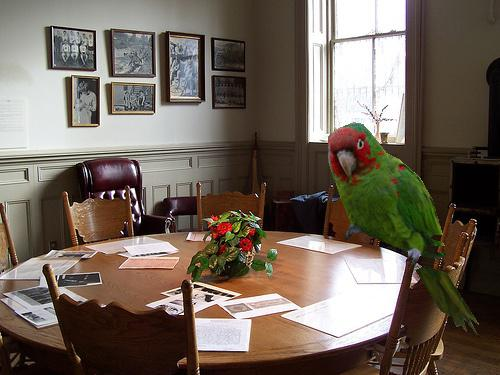tampered: (329, 123, 479, 336)
